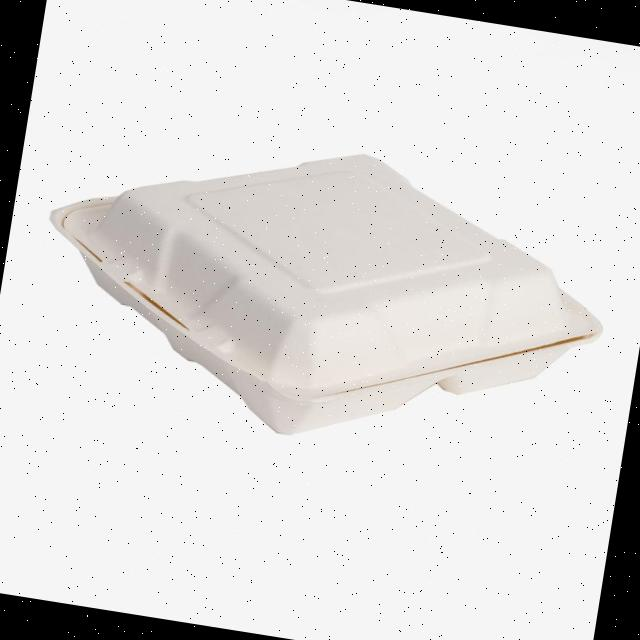styrofoam: (21, 104, 625, 482)
